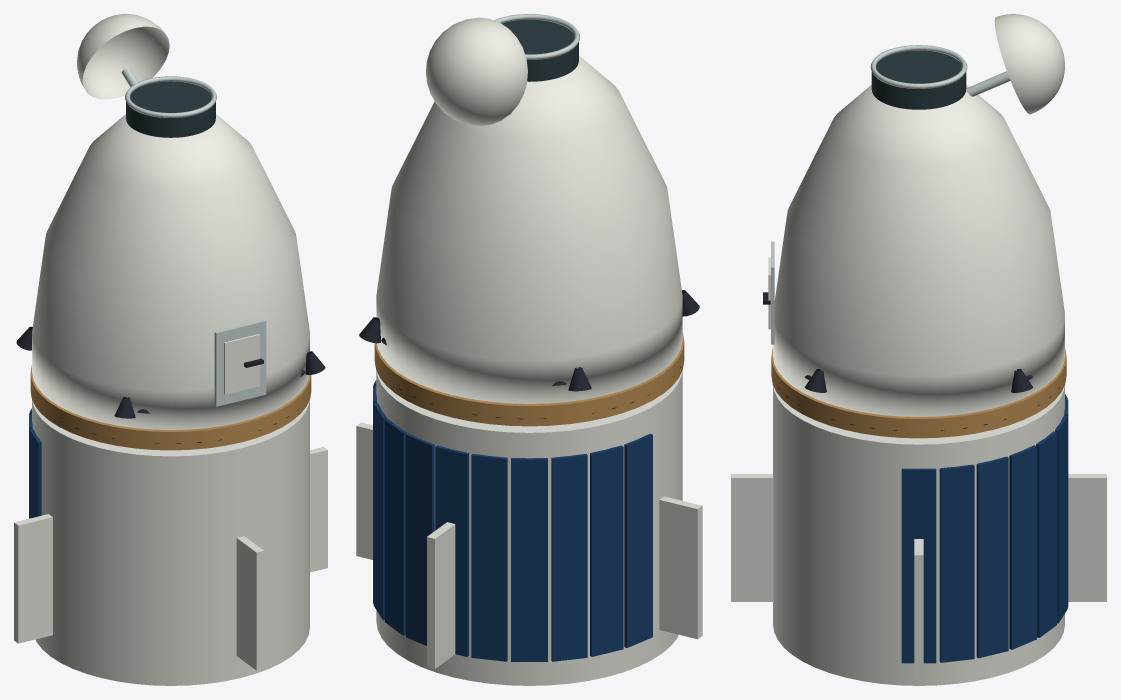
File: dragon-2.glb
3 views of the same model, side by side, from view 1: azimuth 30°, elevation 25°; view 2: azimuth 150°, elevation 25°; view 3: azimuth 270°, elevation 25° (orthographic). The views are drawn at different scales.
Parts seen in each view (by area): view 1: service, crew, docking, heatshield, propulsion; view 2: service, crew, docking, heatshield, propulsion; view 3: service, crew, docking, heatshield, propulsion.
Boxes of the visible parts, x1,y1,x2,y2 form: service: (14,400,327,685); crew: (32,114,309,429); docking: (77,14,216,137); heatshield: (30,365,311,450); propulsion: (16,326,325,418); service: (356,370,702,685); crew: (376,55,682,403); docking: (426,14,580,125); heatshield: (374,332,684,426); propulsion: (359,290,699,391); service: (731,385,1106,685); crew: (763,85,1064,416); docking: (870,14,1064,114); heatshield: (771,348,1066,438); propulsion: (804,369,1033,392).
Size of the model in its own units: 2.47 by 4.39 by 2.47.
